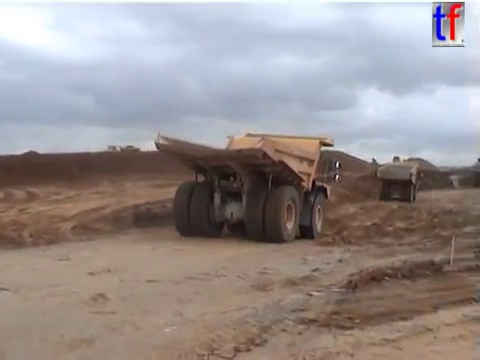truck: (152, 129, 344, 244), (374, 159, 423, 203)
